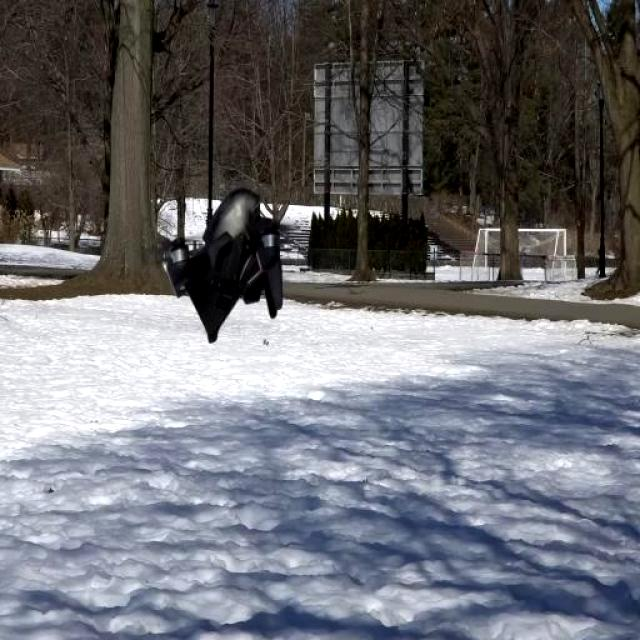bird: (152, 181, 298, 341)
